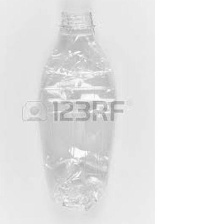bottle: (25, 3, 123, 216)
